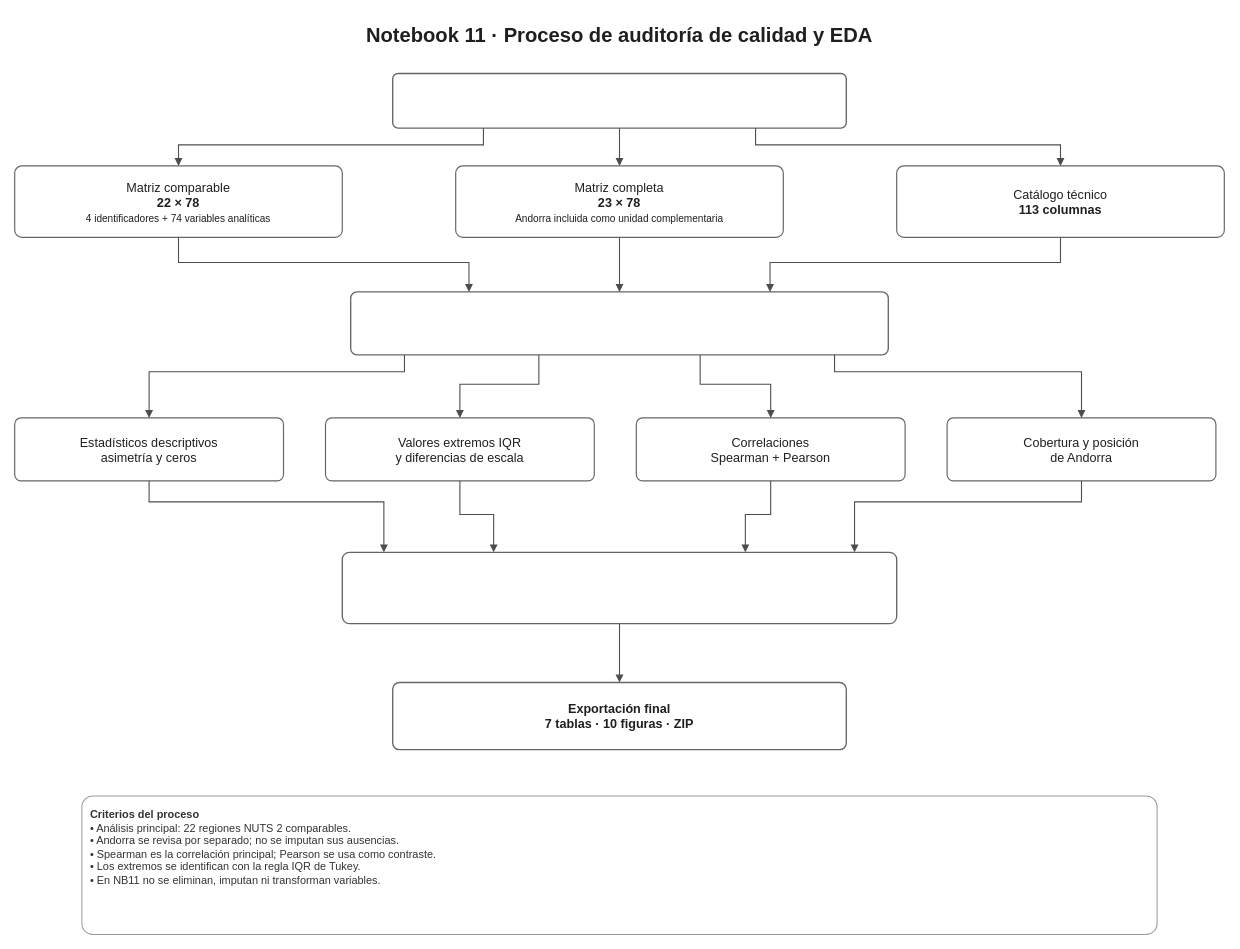
The diagram is 1240 pixels wide and 949 high, and some of its shapes have lost their labels. The box of each missing label's shape, as (x1, y1, x2, y2) in pixels:
Comprobación de estructura, tipos, nulos y variabilidad: (350, 291, 889, 355)
Salidas validadas del Notebook 10: (392, 72, 847, 128)
Síntesis por familias + histogramas + mapa de correlaciones: (341, 551, 897, 624)
